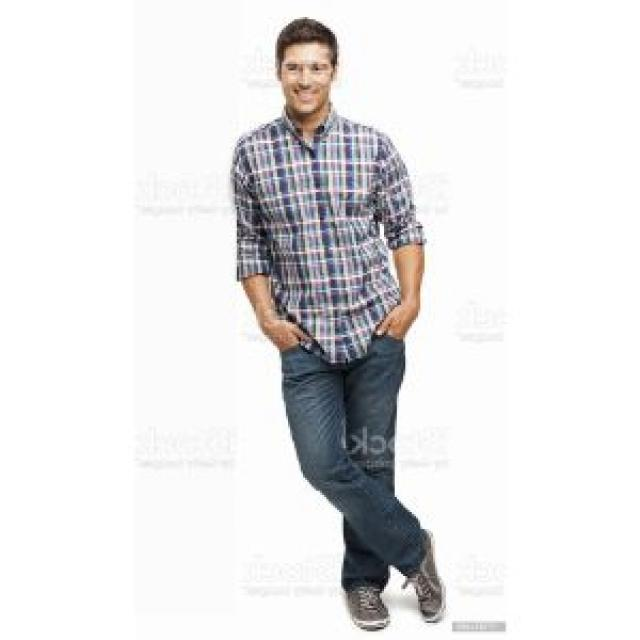adult: (228, 11, 427, 604)
